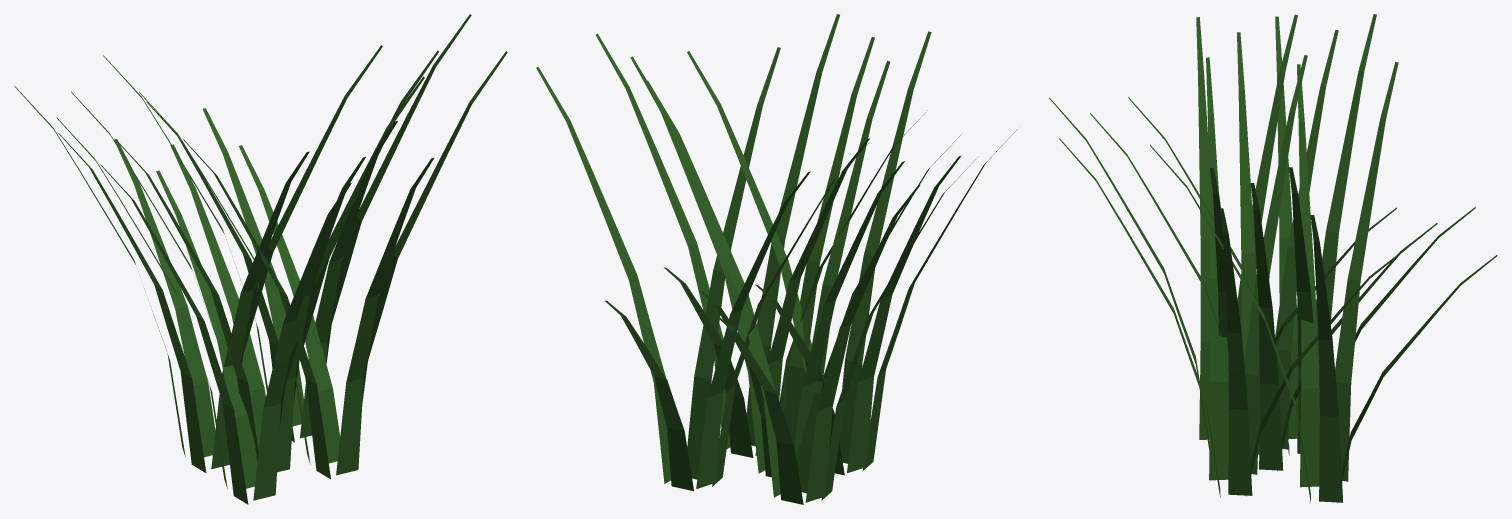
File: Leaf.obj
3 renders of one model, left to right at view 1: azimuth 30°, elevation 25°; view 2: azimuth 150°, elevation 25°; view 3: azimuth 270°, elevation 25°, orthographic. The views are drawn at different scales.
Parts seen in each view (by area): view 1: 平面; view 2: 平面; view 3: 平面.
Part boxes in pixels (left/top/right/bottom): 平面: left=14, top=14, right=507, bottom=504; 平面: left=536, top=14, right=1017, bottom=504; 平面: left=1049, top=14, right=1497, bottom=503.
Size of the model in its own units: 4.06 by 3.5 by 3.88.
Materials: 1 (1 with a texture image).
